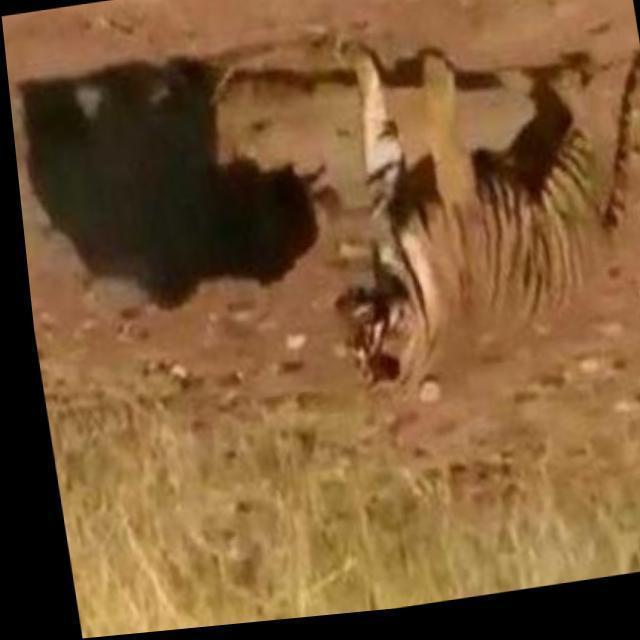tiger: (327, 33, 601, 393), (17, 53, 329, 310), (333, 238, 414, 385)
